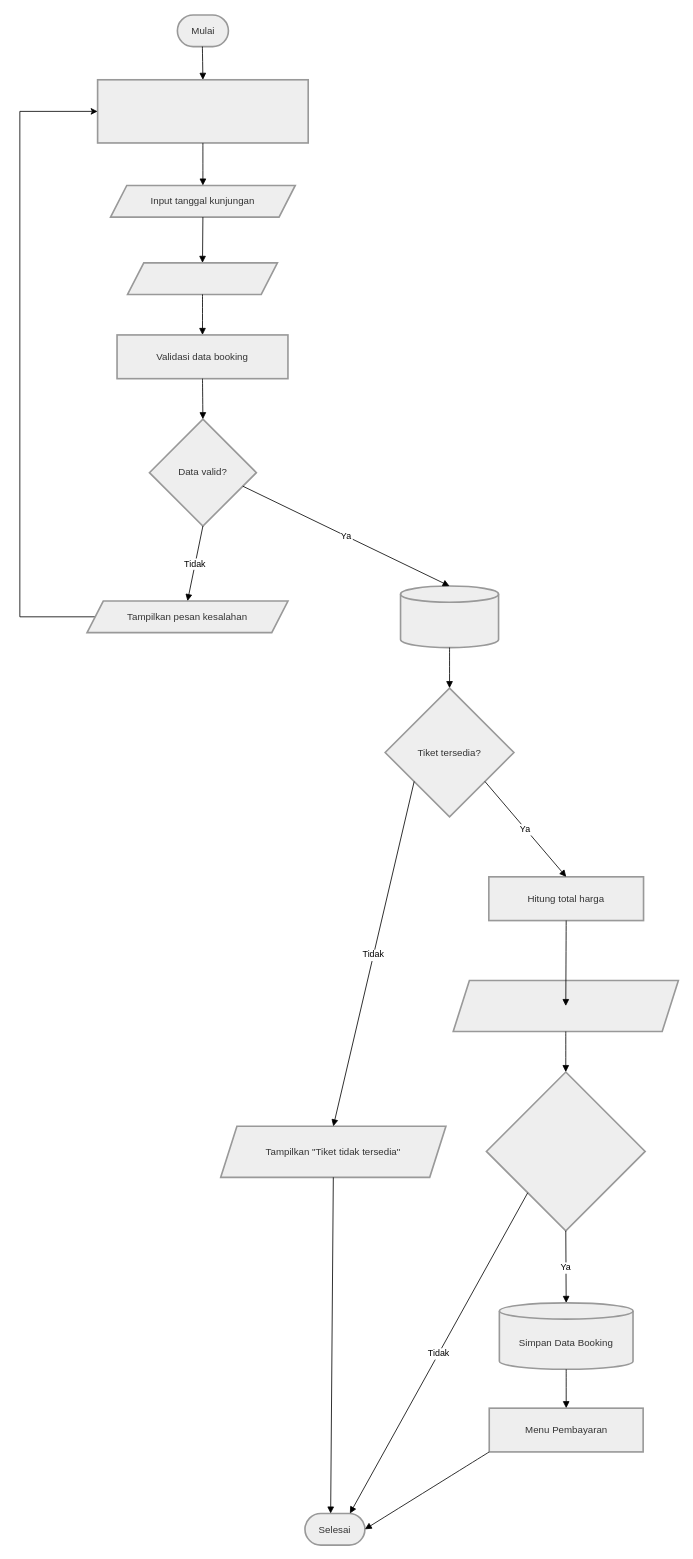
Image size: 693x1559. Some labels were removed from this diagram. Here are the shapes that lost their labels. From the top down, the box of each, then its label:
(96, 79, 309, 143): Memilih menu Booking Tiket
(126, 262, 278, 295): Input jumlah tiket
(399, 585, 499, 648): Database Tiket
(452, 979, 679, 1032): Tampilkan detail pesanan & total harga
(485, 1071, 646, 1231): Konfirmasi booking?
